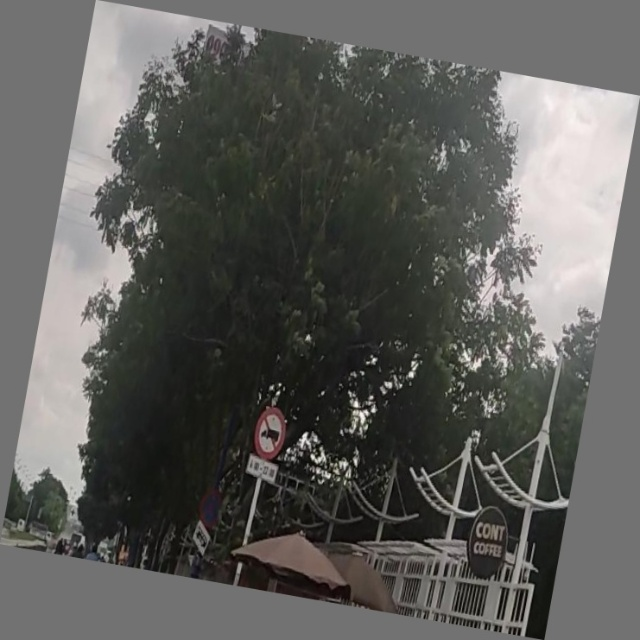B.8a: (247, 407, 291, 485)
